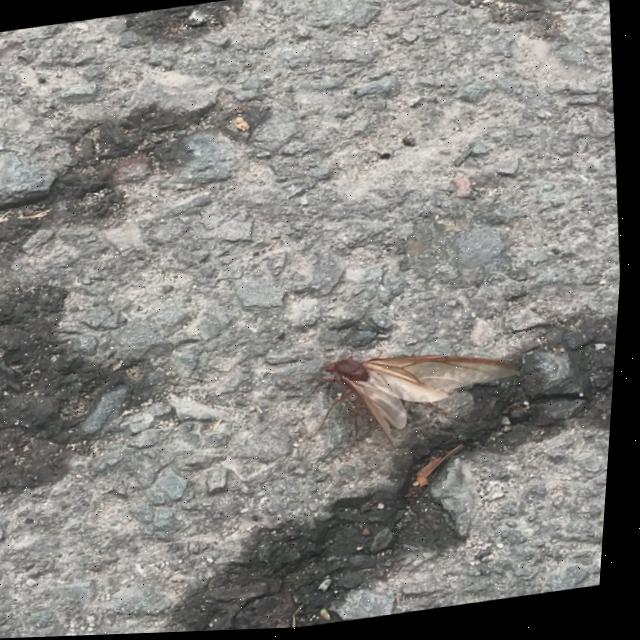Alive-Male-Alate: (282, 333, 535, 471)
